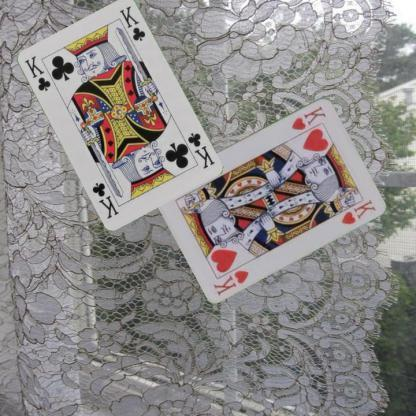Kc: (184, 129, 216, 170), (21, 53, 52, 93)
Kh: (287, 102, 328, 132), (211, 266, 251, 296)
